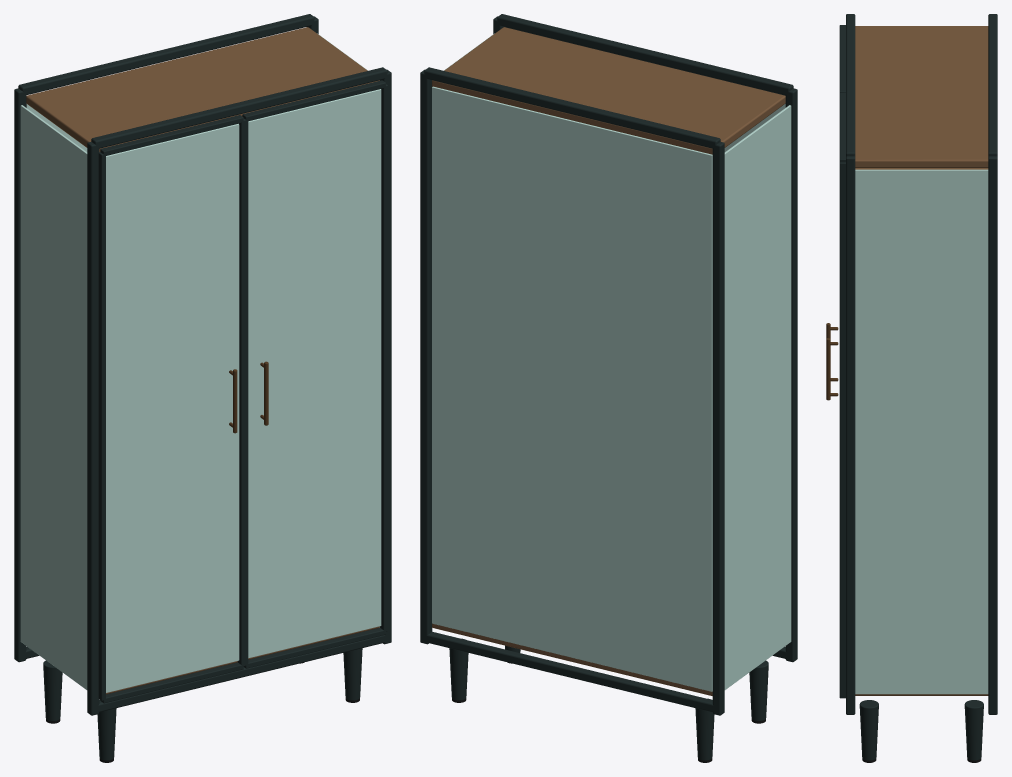
File: PRISM 90.obj
3 views of the same model, side by side, from view 1: azimuth 30°, elevation 25°; view 2: azimuth 150°, elevation 25°; view 3: azimuth 270°, elevation 25° (orthographic). The views are drawn at different scales.
Parts seen in each view (by area): view 1: Glass, Frame, Oak, Hardware; view 2: Glass, Frame, Oak; view 3: Glass, Frame, Oak, Hardware.
Boxes of the visible parts, <box> form: Glass: <box>20,33,381,692</box>; Frame: <box>14,14,391,760</box>; Oak: <box>26,27,379,694</box>; Hardware: <box>229,361,268,433</box>; Glass: <box>432,33,791,691</box>; Frame: <box>420,14,797,760</box>; Oak: <box>432,27,785,695</box>; Glass: <box>855,169,988,694</box>; Frame: <box>839,14,997,760</box>; Oak: <box>855,26,988,695</box>; Hardware: <box>826,323,838,400</box>.
Size of the model in its own units: 0.905 by 1.82 by 0.4575.
